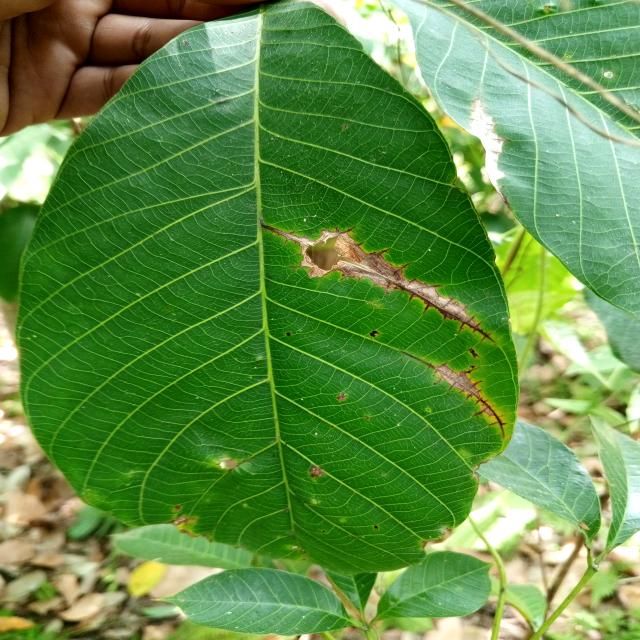Colletotrichum: (602, 70, 614, 80)
Corynespora: (260, 222, 494, 344), (400, 349, 508, 439)
Leaf-Blight: (469, 102, 505, 201)
